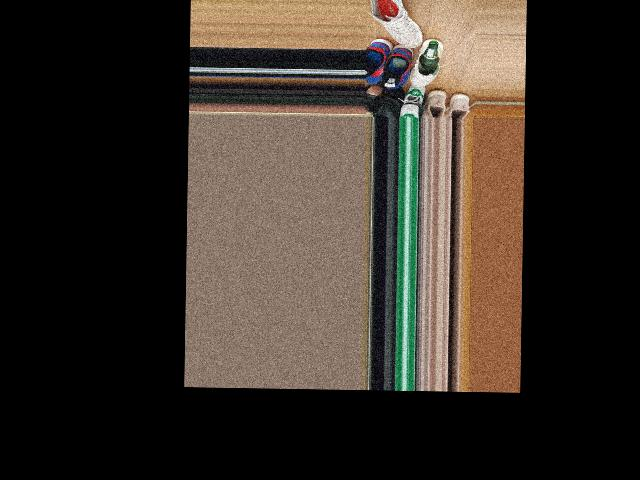beer: (418, 40, 439, 74)
